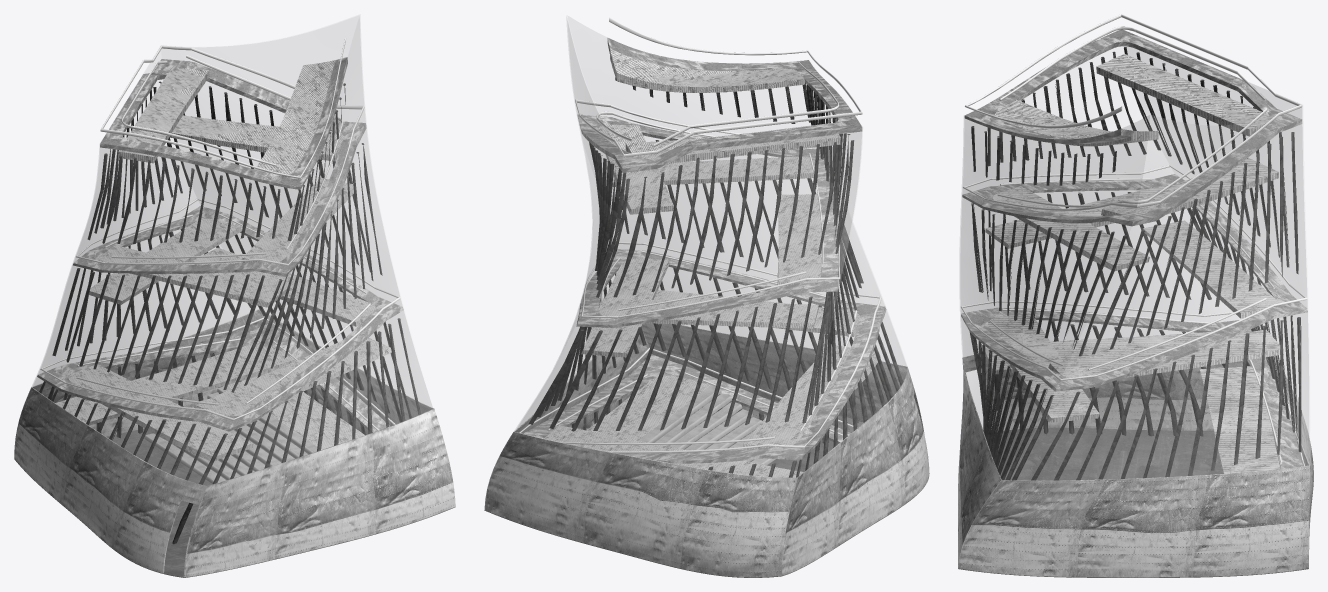
The picture shows the model from 3 angles, left to right: view 1: azimuth 30°, elevation 25°; view 2: azimuth 150°, elevation 25°; view 3: azimuth 270°, elevation 25°; orthographic projection. The views are drawn at different scales.
Visible parts, largest first — view 1: Marble Facade, Facade_Base, Slabs, Columns, Ramp\, Railings, Sitting Stair_GF, Ground Floor; view 2: Marble Facade, Facade_Base, Slabs, Columns, Ramp\, Railings, Sitting Stair_GF, Ground Floor; view 3: Marble Facade, Facade_Base, Columns, Slabs, Ramp\, Railings, Ground Floor.
Boxes of the visible parts, x1,y1,x2,y2 form: Marble Facade: (32,14,433,485); Facade_Base: (14,309,455,577); Slabs: (55,60,391,460); Columns: (39,81,420,544); Ramp\: (37,57,403,432); Railings: (40,37,400,430); Sitting Stair_GF: (144,386,317,483); Ground Floor: (14,428,455,577); Marble Facade: (514,15,907,477); Facade_Base: (484,323,929,577); Slabs: (544,48,880,477); Columns: (528,77,903,477); Ramp\: (523,38,886,463); Railings: (519,17,881,453); Sitting Stair_GF: (638,385,775,465); Ground Floor: (484,411,929,577); Marble Facade: (959,46,1310,480); Facade_Base: (958,354,1313,577); Columns: (969,47,1301,480); Slabs: (985,54,1283,473); Ramp\: (961,29,1307,468); Railings: (960,14,1307,466); Ground Floor: (958,427,1313,577).
Bounding box in the file's own units: 31.68 × 45.54 × 31.68.
Materials: 8 (6 with a texture image).
